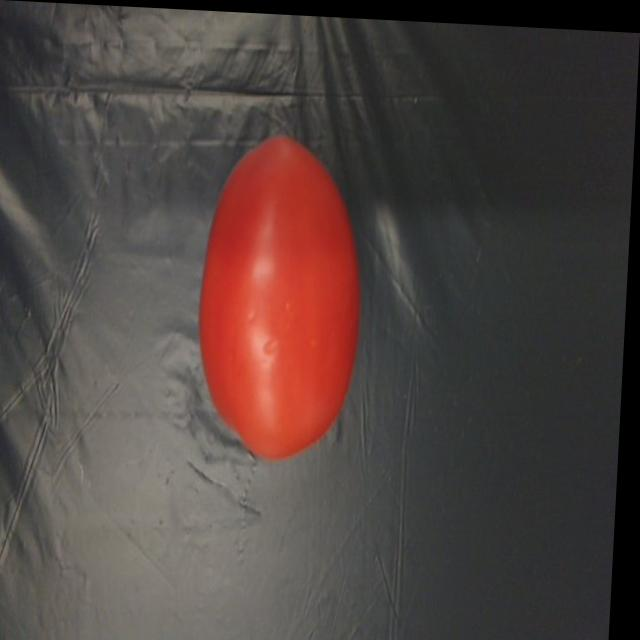kirmizi: (201, 123, 384, 456)
